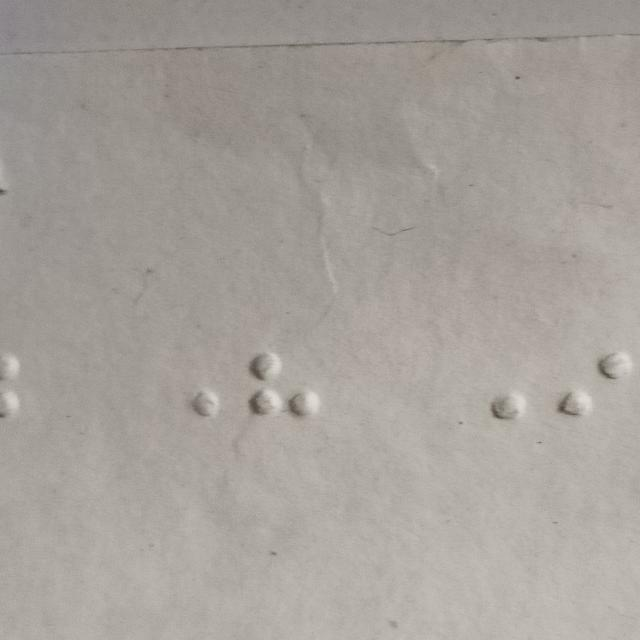dot_5: (145, 352, 222, 456), (447, 355, 524, 458)
two_cell_alphabet_hapon: (247, 348, 324, 451)
two_cell_alphabet_isip: (555, 347, 632, 450)
